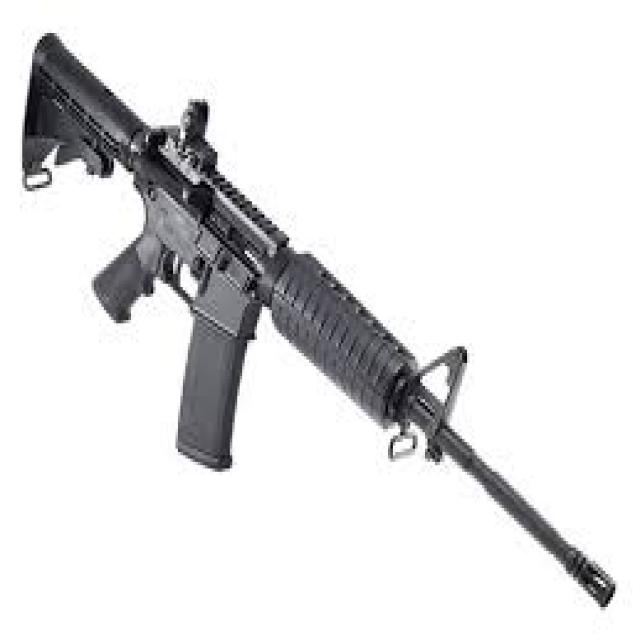rifle: (17, 23, 619, 612)
